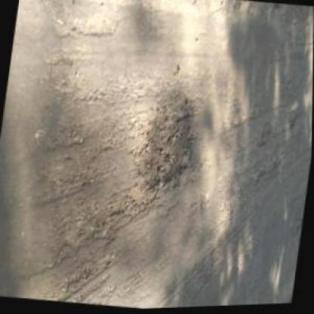Hueco: (132, 92, 202, 198)
